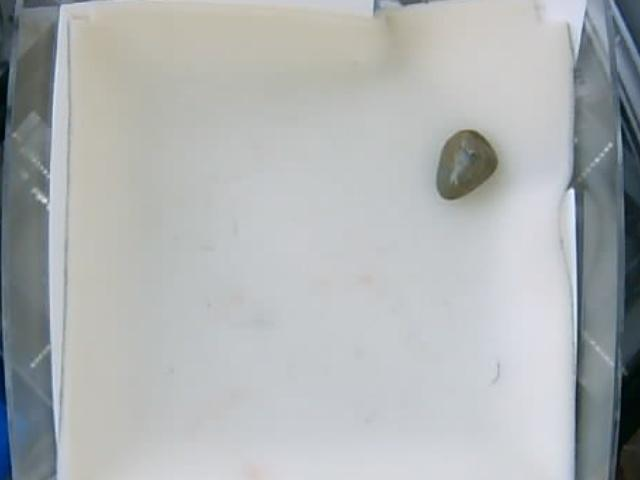Pebble: (436, 128, 495, 201)
